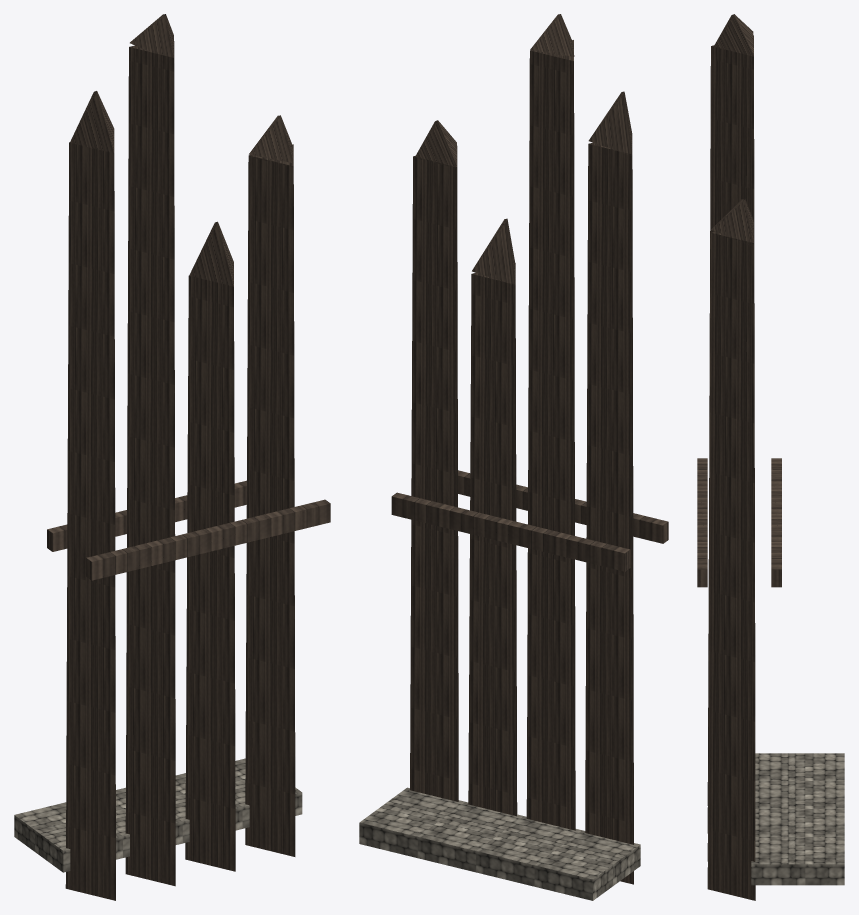
File: Rampart_Wood_Burnt_1_LOD2.gltf
3 views of the same model, side by side, from view 1: azimuth 30°, elevation 25°; view 2: azimuth 150°, elevation 25°; view 3: azimuth 270°, elevation 25° (orthographic). The views are drawn at different scales.
Parts seen in each view (by area): view 1: Rampart_Wood_Burnt_1_LOD2; view 2: Rampart_Wood_Burnt_1_LOD2; view 3: Rampart_Wood_Burnt_1_LOD2.
Boxes of the visible parts, x1,y1,x2,y2 form: Rampart_Wood_Burnt_1_LOD2: (14,14,330,900); Rampart_Wood_Burnt_1_LOD2: (359,14,668,900); Rampart_Wood_Burnt_1_LOD2: (697,14,844,900).
Size of the model in its own units: 4 by 13.77 by 2.24.
Materials: 2 (2 with a texture image).
